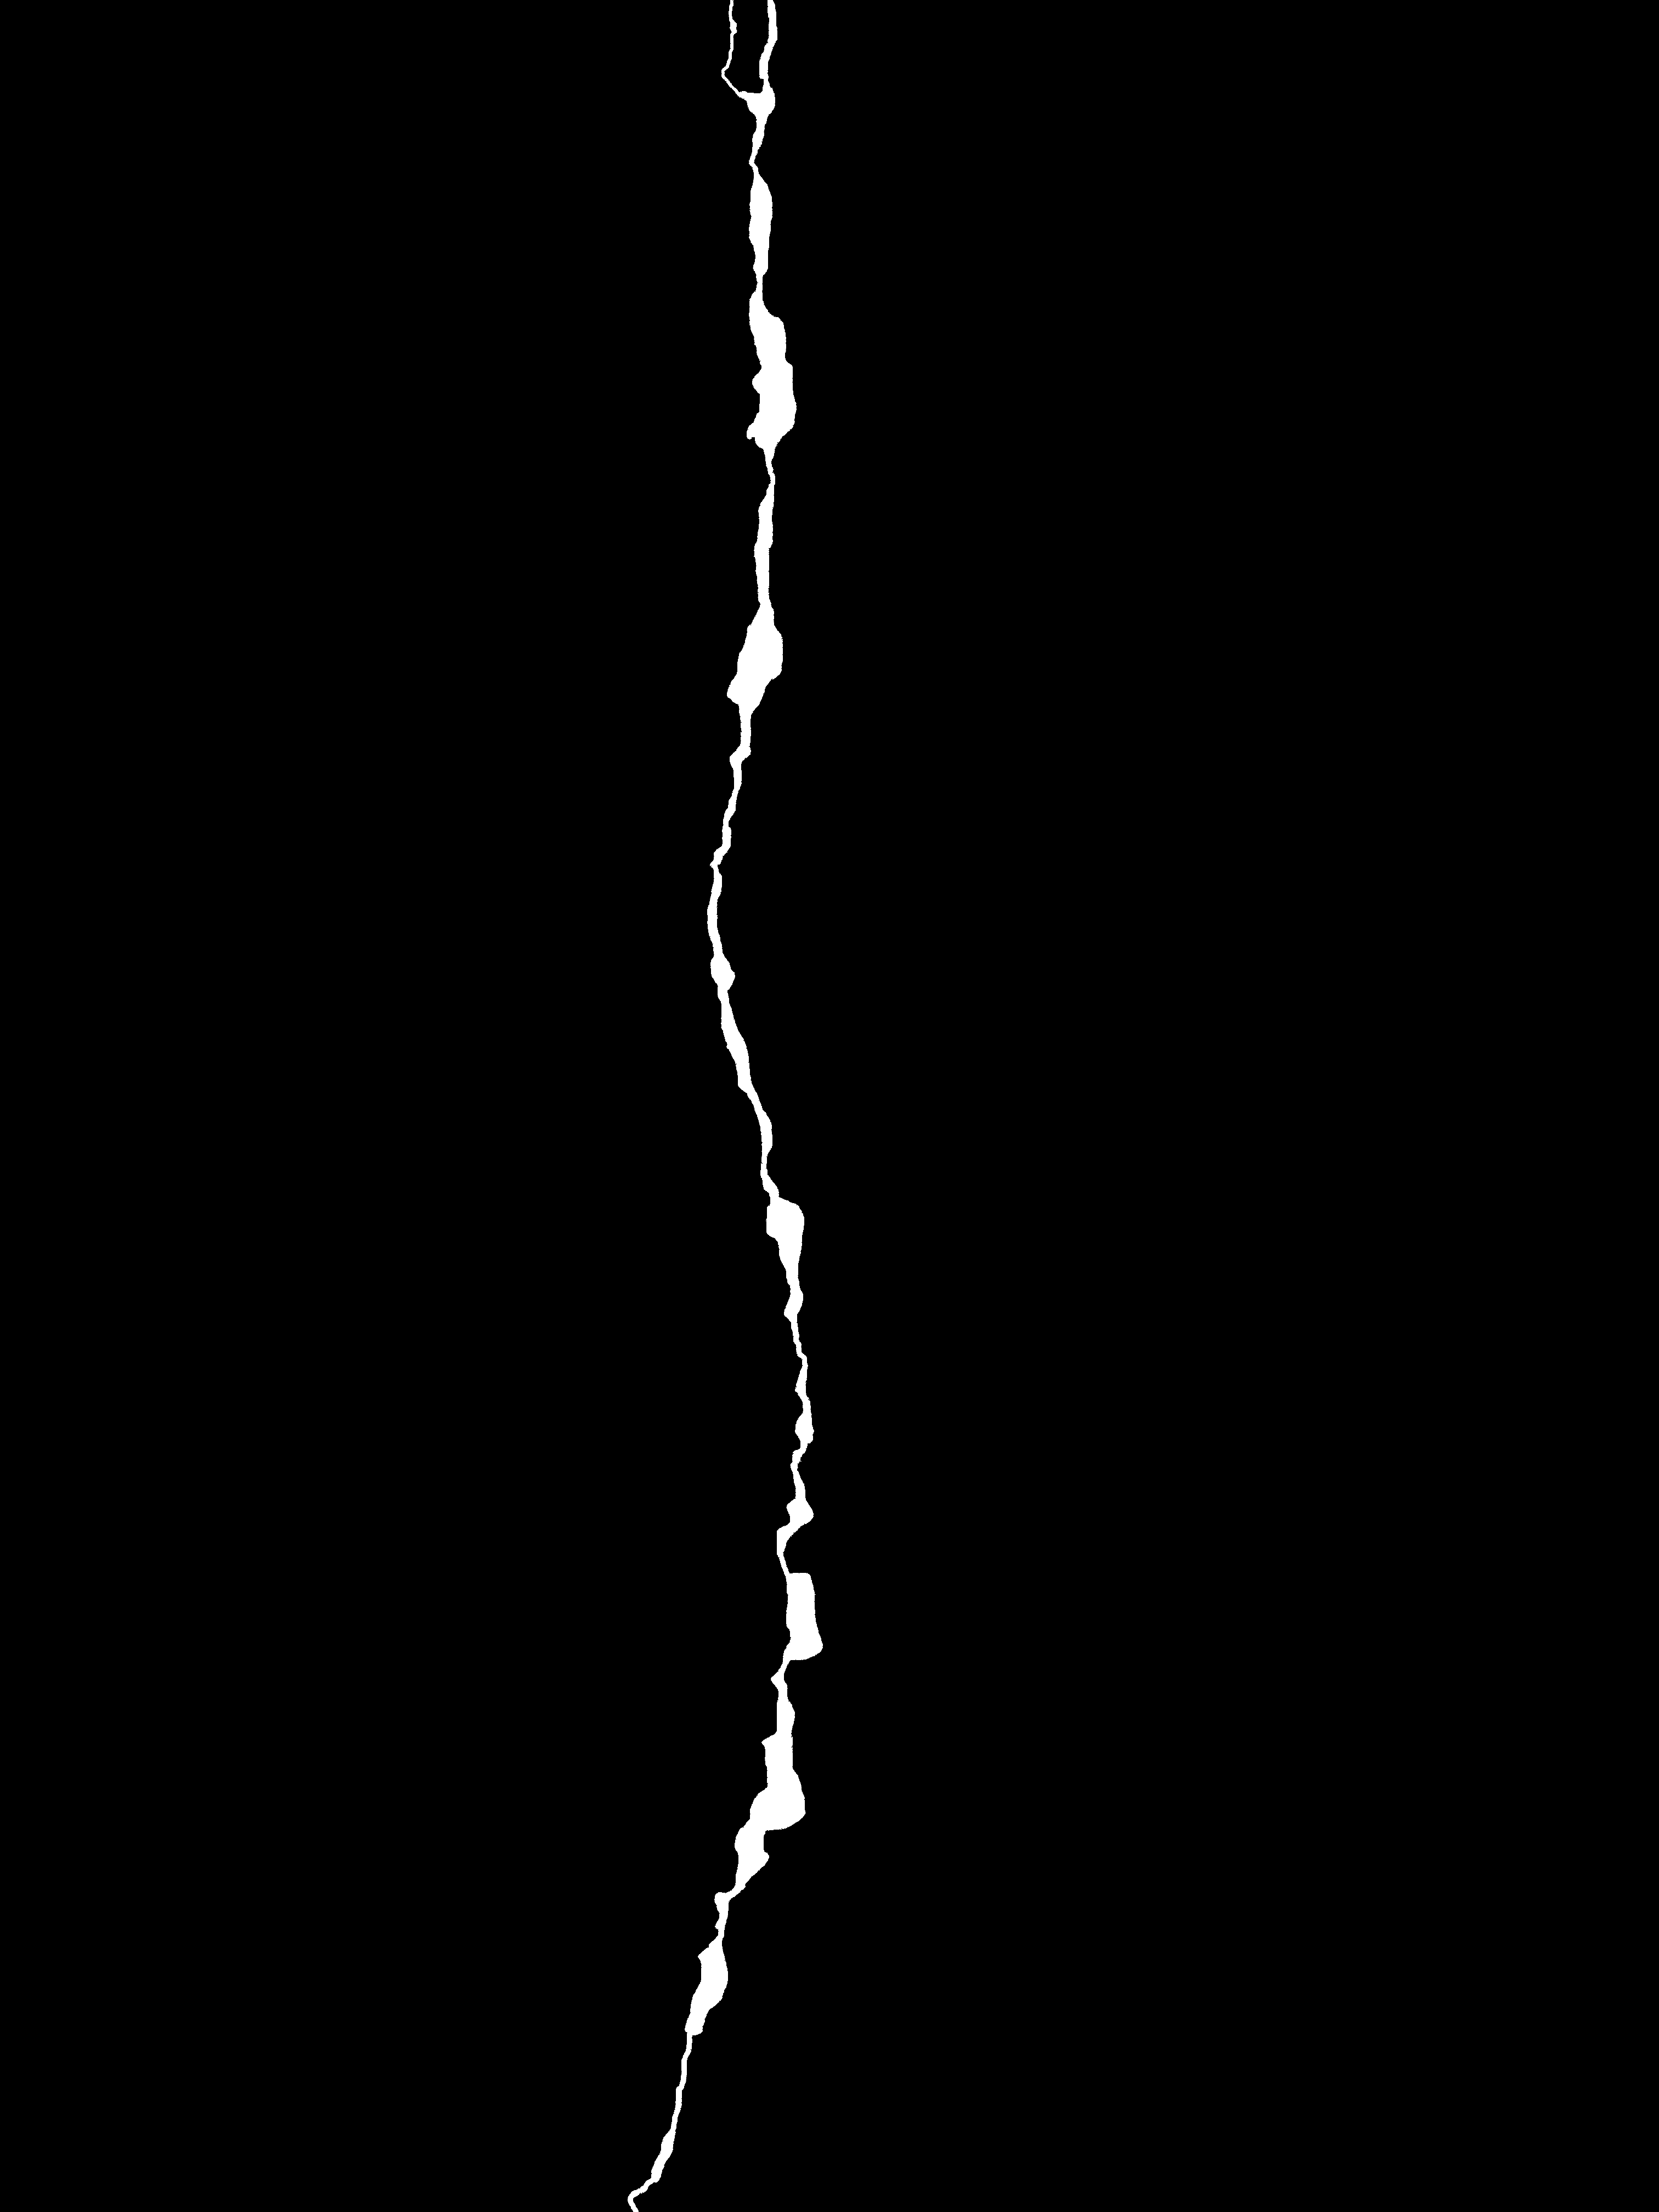Crack: (603, 0, 849, 2212)
